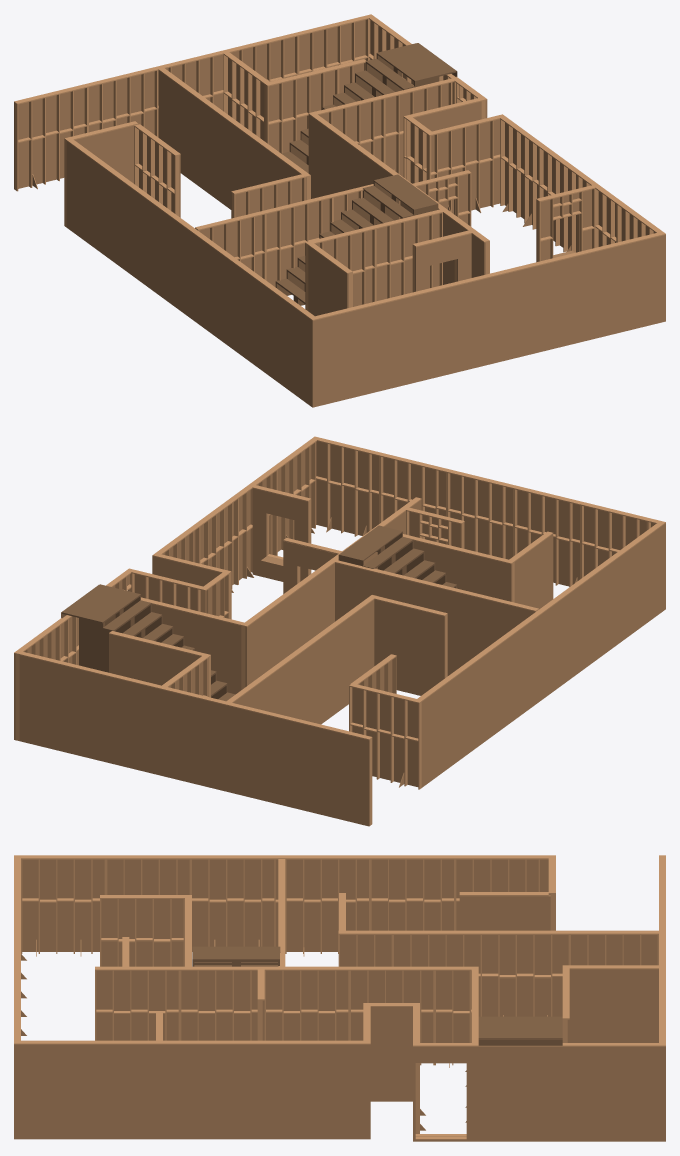
Rendered from Killhouse Bottom Floor.fbx.
The picture shows the model from 3 angles, top to bottom: view 1: azimuth 30°, elevation 25°; view 2: azimuth 150°, elevation 25°; view 3: azimuth 270°, elevation 25°; orthographic projection. The views are drawn at different scales.
Visible parts, largest first — view 1: Stud Wall 1.017, Stud Wall 1.015, Stud Wall 1.016, Stud Wall 1.014, Stud Wall 1.018, Stairs.001, Stairs, Stud Wall 1.040, Stud Wall 1.036, Stud Wall 1.034, Stud Wall 1.020, Stud Wall 1.019 (+58 smaller); view 2: Stud Wall 1.040, Stud Wall 1.024, Stud Wall 1.041, Stud Wall 1.025, Stud Wall 1.039, Stairs.001, Stud Wall 1.043, Stud Wall 1.018, Stud Wall 1.037, Stud Wall 1.034, Stud Wall 1.016, Stud Wall 1.020 (+50 smaller); view 3: Stud Wall 1.011, Stud Wall 1.012, Stud Wall 1, Stud Wall 1.013, Stud Wall 1.023, Stud Wall 1.010, Stud Wall 1.034, Stud Wall 1.036, Stud Wall 1.026, Stud Wall 1.045, Stud Wall 1.021, Stud Wall 1.020 (+41 smaller).
Boxes of the visible parts, box(x1,y1,x2,y2) form: Stud Wall 1.017: box(524, 252, 595, 355); Stud Wall 1.015: box(383, 286, 453, 390); Stud Wall 1.016: box(454, 269, 524, 372); Stud Wall 1.014: box(314, 304, 383, 407); Stud Wall 1.018: box(595, 235, 664, 338); Stairs.001: box(281, 43, 457, 173); Stairs: box(275, 174, 438, 305); Stud Wall 1.040: box(14, 88, 84, 189); Stud Wall 1.036: box(271, 291, 314, 407); Stud Wall 1.034: box(189, 231, 230, 347); Stud Wall 1.020: box(108, 172, 149, 287); Stud Wall 1.019: box(67, 142, 108, 257); Stud Wall 1.040: box(299, 723, 369, 826); Stud Wall 1.024: box(19, 655, 89, 758); Stud Wall 1.041: box(160, 689, 230, 792); Stud Wall 1.025: box(90, 672, 159, 775); Stud Wall 1.039: box(230, 706, 298, 809); Stairs.001: box(61, 584, 235, 701); Stud Wall 1.043: box(374, 599, 445, 695); Stud Wall 1.018: box(316, 441, 383, 535); Stud Wall 1.037: box(352, 687, 422, 787); Stud Wall 1.034: box(543, 582, 584, 698); Stud Wall 1.016: box(454, 474, 524, 559); Stud Wall 1.020: box(463, 642, 503, 757); Stud Wall 1.011: box(192, 1044, 281, 1139); Stud Wall 1.012: box(103, 1044, 192, 1139); Stud Wall 1: box(487, 1047, 576, 1141); Stud Wall 1.013: box(14, 1044, 102, 1139); Stud Wall 1.023: box(577, 1047, 665, 1141); Stud Wall 1.010: box(281, 1044, 368, 1139); Stud Wall 1.034: box(192, 859, 278, 946); Stud Wall 1.036: box(22, 859, 102, 956); Stud Wall 1.026: box(569, 969, 658, 1042); Stud Wall 1.045: box(482, 935, 568, 1016); Stud Wall 1.021: box(286, 859, 368, 956); Stud Wall 1.020: box(371, 859, 459, 930).
Size of the model in its own units: 1091 by 274 by 1562.
